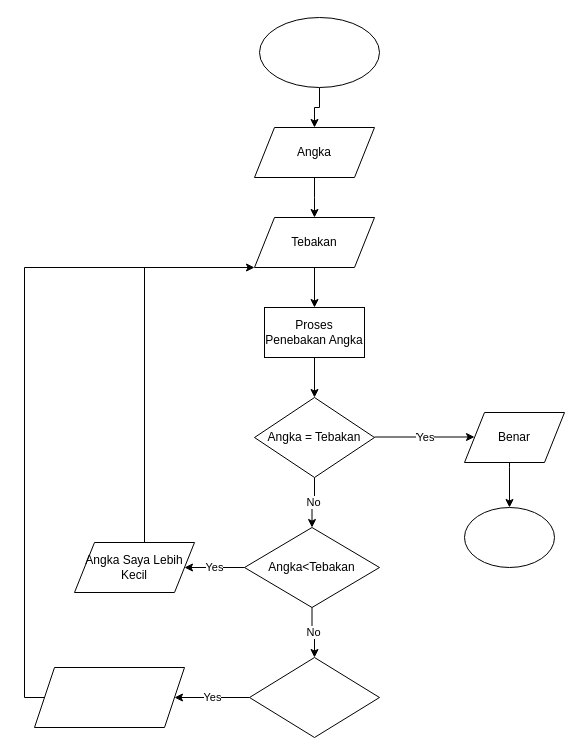
This 582x755 diagram has some shape labels left out. Each missing label, with the centre of its shape:
"Angka Saya Lebih Besar" goes at point (109, 697).
"Angka>Tebakan" goes at point (314, 697).
"End" goes at point (509, 537).
"Mulai" goes at point (319, 52).
